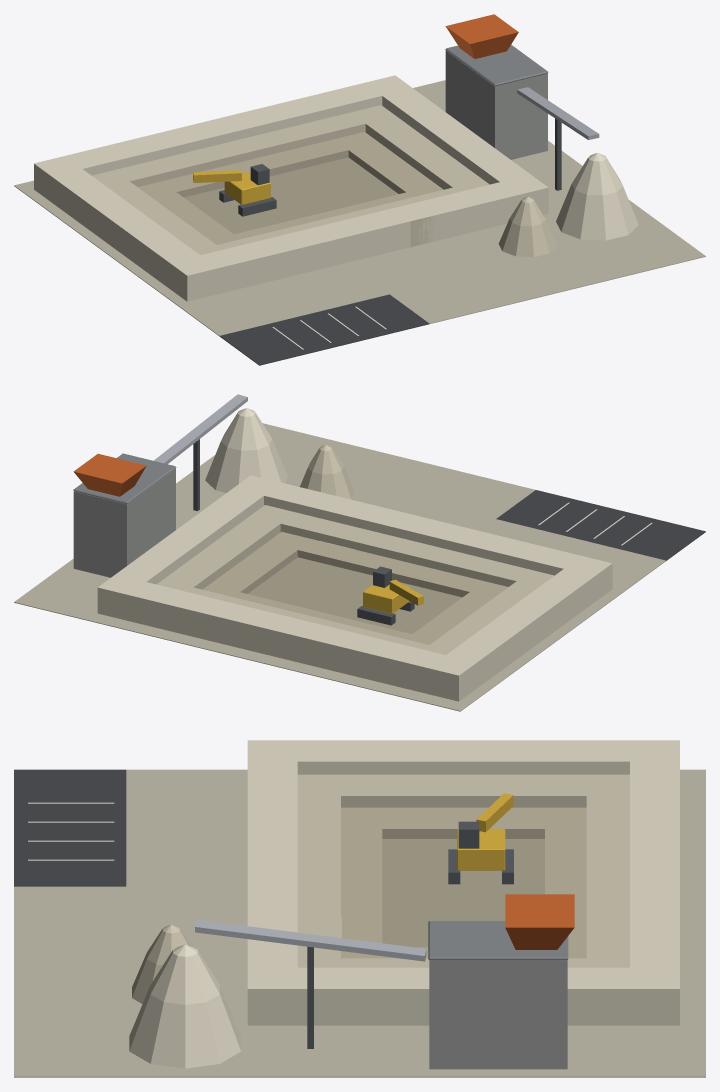
The model's file is quarry.glb.
The picture shows the model from 3 angles, top to bottom: view 1: azimuth 30°, elevation 25°; view 2: azimuth 150°, elevation 25°; view 3: azimuth 270°, elevation 25°; orthographic projection. The views are drawn at different scales.
Visible parts, largest first — view 1: quarry; view 2: quarry; view 3: quarry.
Boxes of the visible parts, x1,y1,x2,y2 form: quarry: [14, 14, 705, 365]; quarry: [14, 394, 705, 711]; quarry: [14, 740, 705, 1077].
Size of the model in its own units: 42 by 9 by 40.
